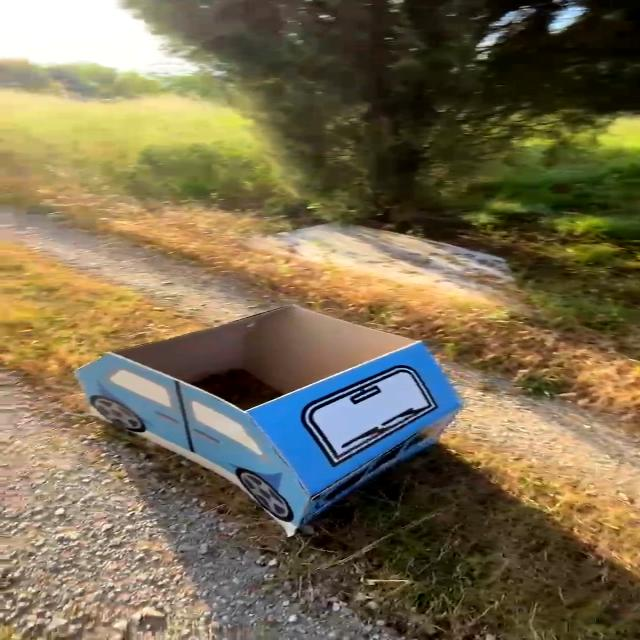blue_car: (56, 294, 518, 540)
